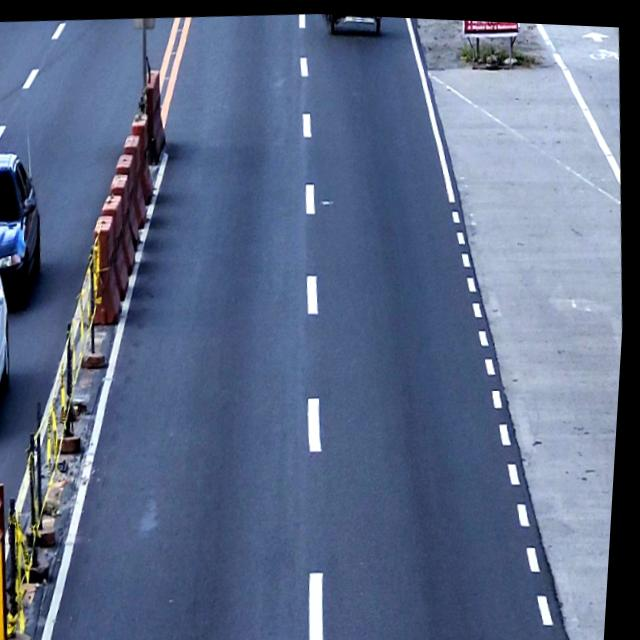Car: (0, 147, 50, 305), (0, 240, 24, 429)
Tricycle: (322, 11, 383, 35)
